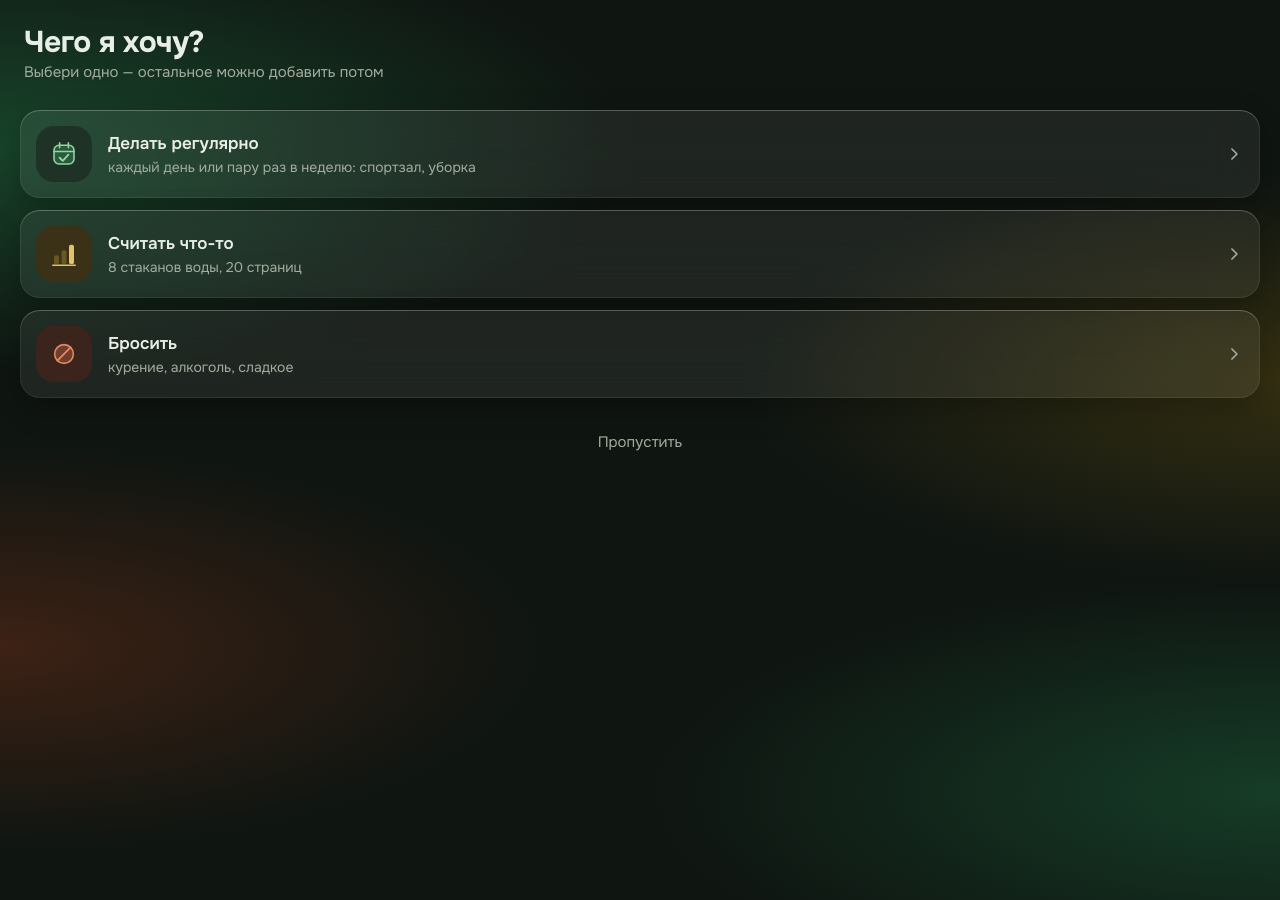
онбординг › пусто — «Чего я хочу?»; «Пропустить» запоминается на устройстве
This screenshot has width=1280, height=900.
Click the button "Пропустить" at x=640, y=442, box [586,418,694,466]
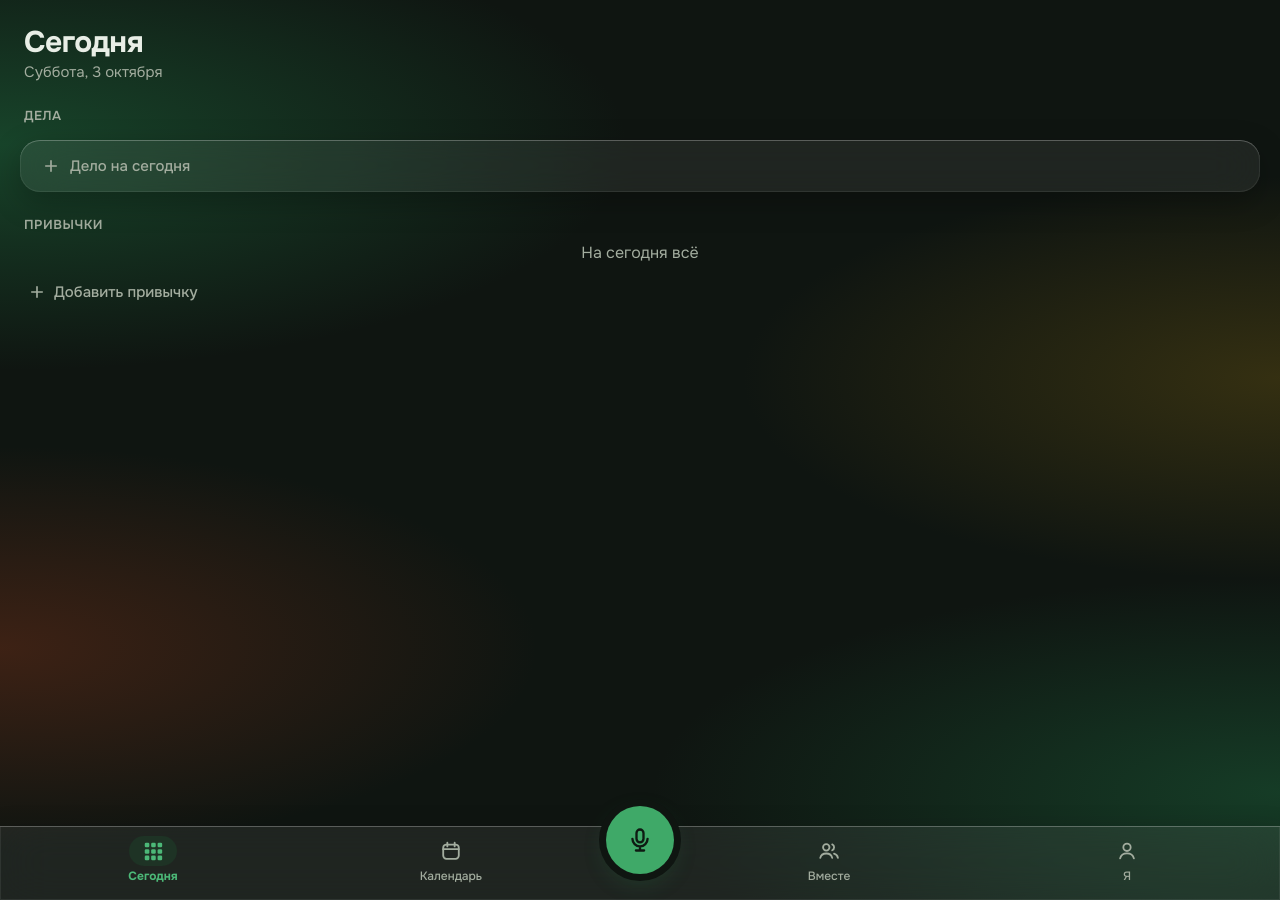
expect the heading "Сегодня" is shown: met, box [24,23,143,61]
